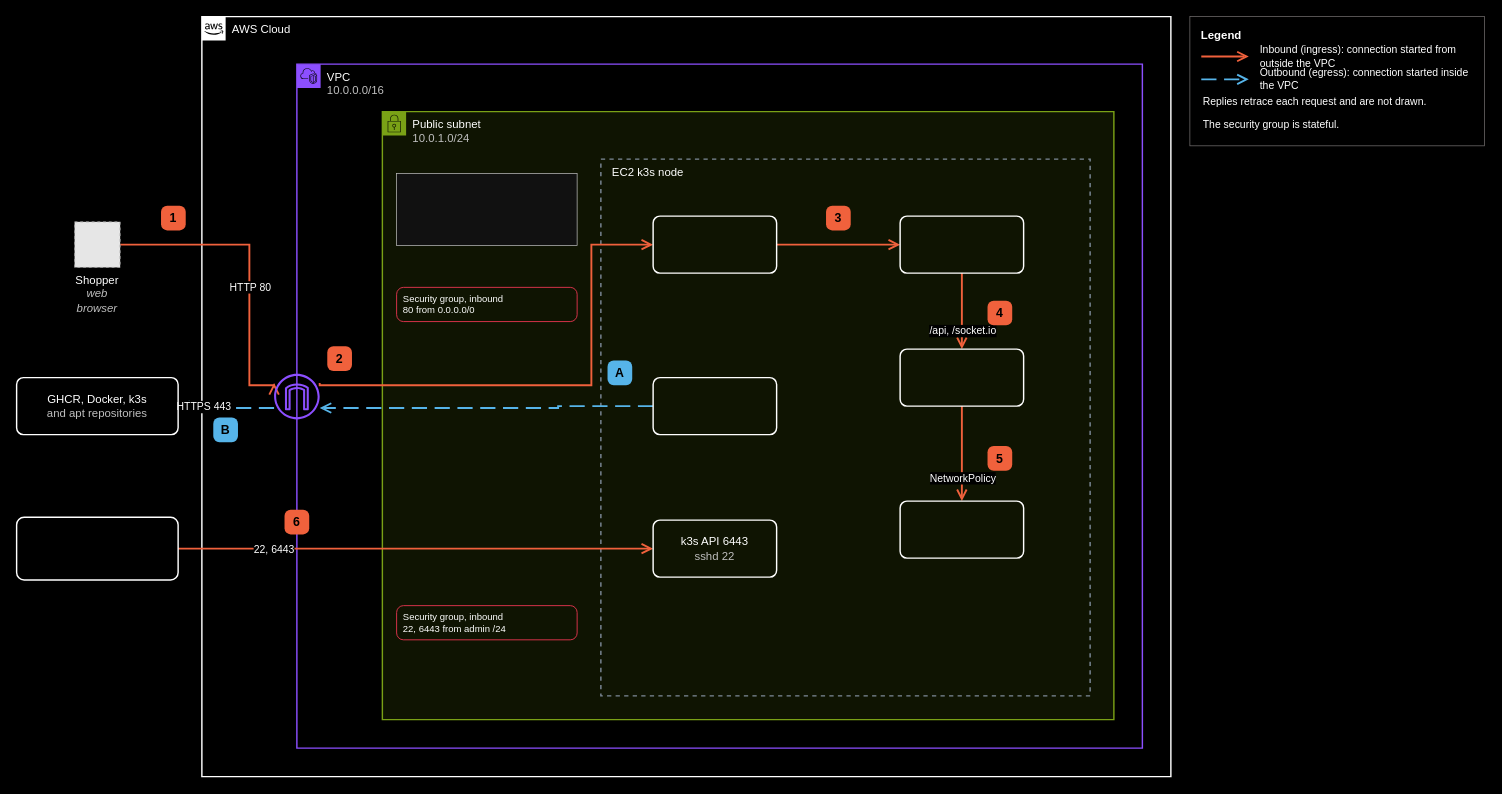
Some shapes in this 1502 by 794 pixel diagram are drawn without their labels. Grey dashed boxes stand in for pictures. Here are the shapes that lost their labels. From the top down, the centre of each, then its label:
pixel 486 209: rt-public Destination Target 10.0.0.0/16 local 0.0.0.0/0 igw
pixel 714 244: Traefik port 80
pixel 961 244: Nginx port 8080
pixel 296 396: Internet gateway
pixel 961 377: Express API port 3000
pixel 714 405: containerd image pulls, apt
pixel 96 548: Laptop Jenkins, kubectl, Ansible
pixel 961 529: MongoDB port 27017
